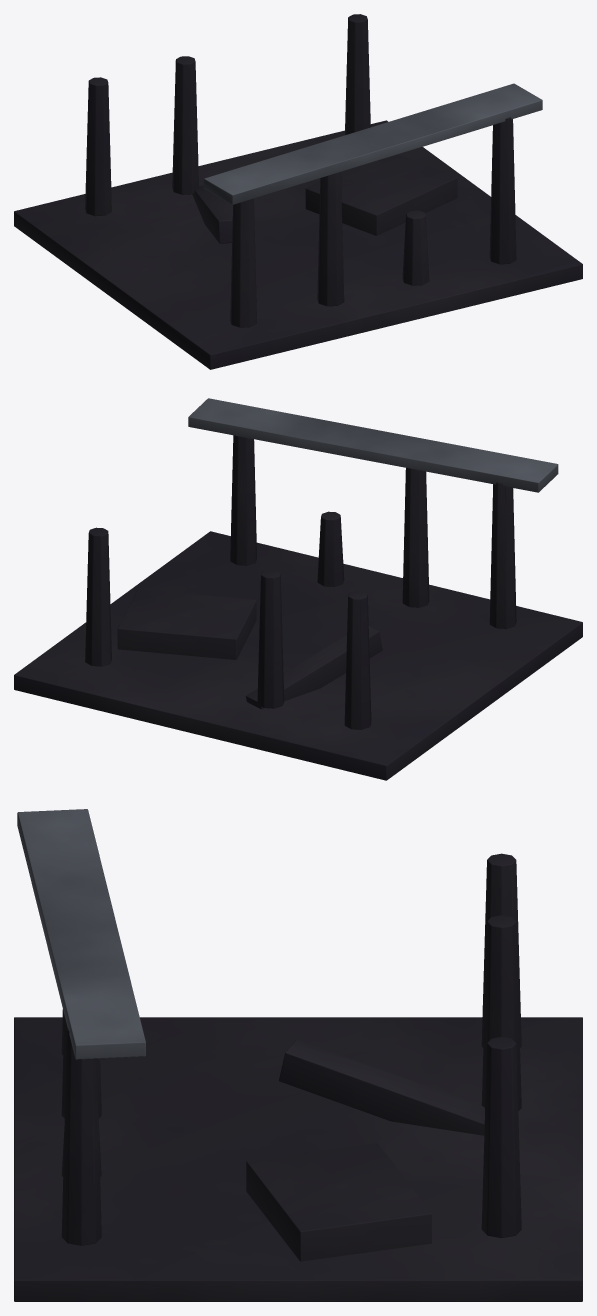
File: building_ancient_ruins.fbx
The picture shows the model from 3 angles, top to bottom: view 1: azimuth 30°, elevation 25°; view 2: azimuth 150°, elevation 25°; view 3: azimuth 270°, elevation 25°; orthographic projection. The views are drawn at different scales.
Parts seen in each view (by area): view 1: building_ancient_ruins; view 2: building_ancient_ruins; view 3: building_ancient_ruins.
Part boxes in pixels (x1,y1,x2,y2): building_ancient_ruins: (14,14,582,369); building_ancient_ruins: (14,398,582,780); building_ancient_ruins: (14,809,582,1301).
Bounding box in the file's own units: 9.2 × 3.97 × 8.4.
